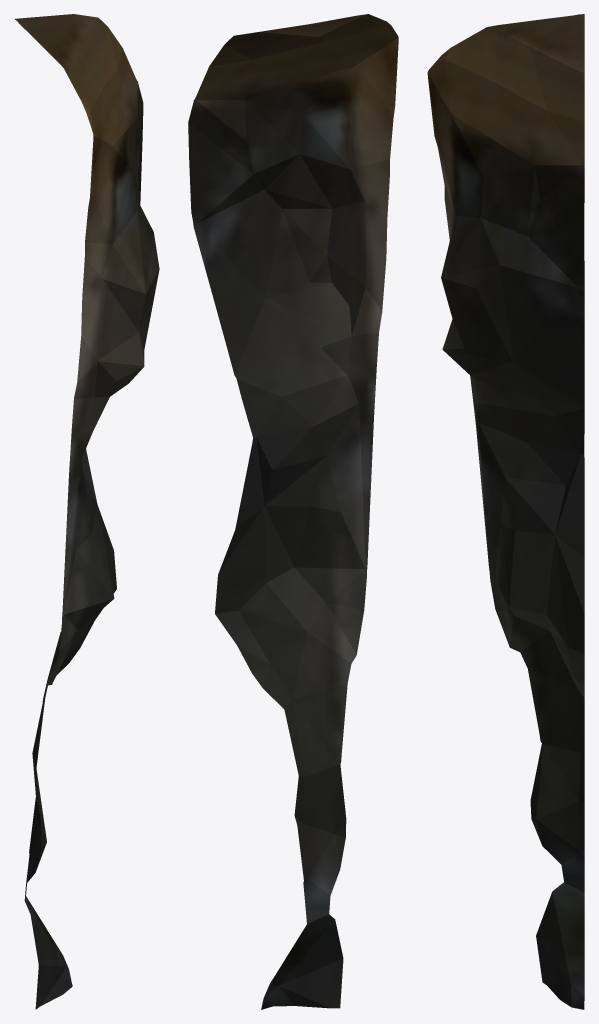
3 views of the same model, side by side, from view 1: azimuth 30°, elevation 25°; view 2: azimuth 150°, elevation 25°; view 3: azimuth 270°, elevation 25° (orthographic).
Bounding box in the file's own units: 0.0924 × 0.6671 × 0.098.
1 material, 1 textured.
